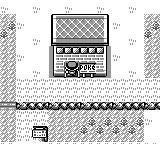leer: (33, 126, 48, 142)
main: (64, 61, 78, 77)
no-caminable: (52, 13, 108, 79)
salto: (16, 102, 160, 110)
